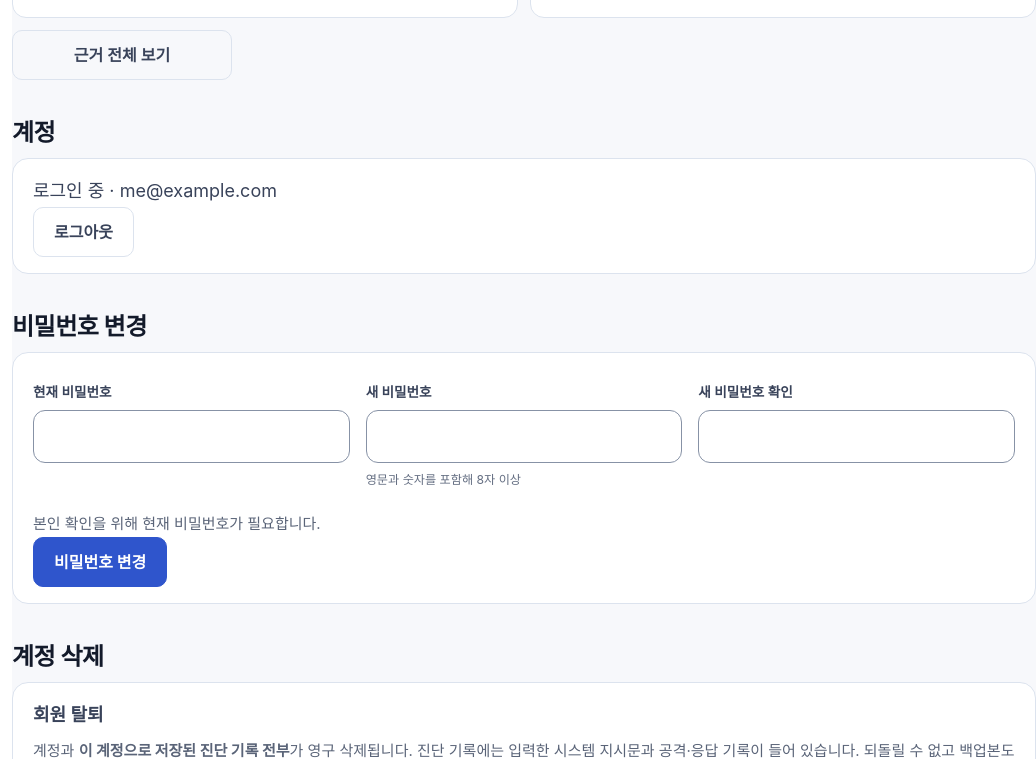
Scenario: 새 비밀번호가 서로 다르면 서버를 부르지 않는다
The image size is (1036, 759).
(page scrolled)
Step 1. Type "abcd1234" into the password field labelled "현재 비밀번호" → (191,437), box [33,410,350,463]
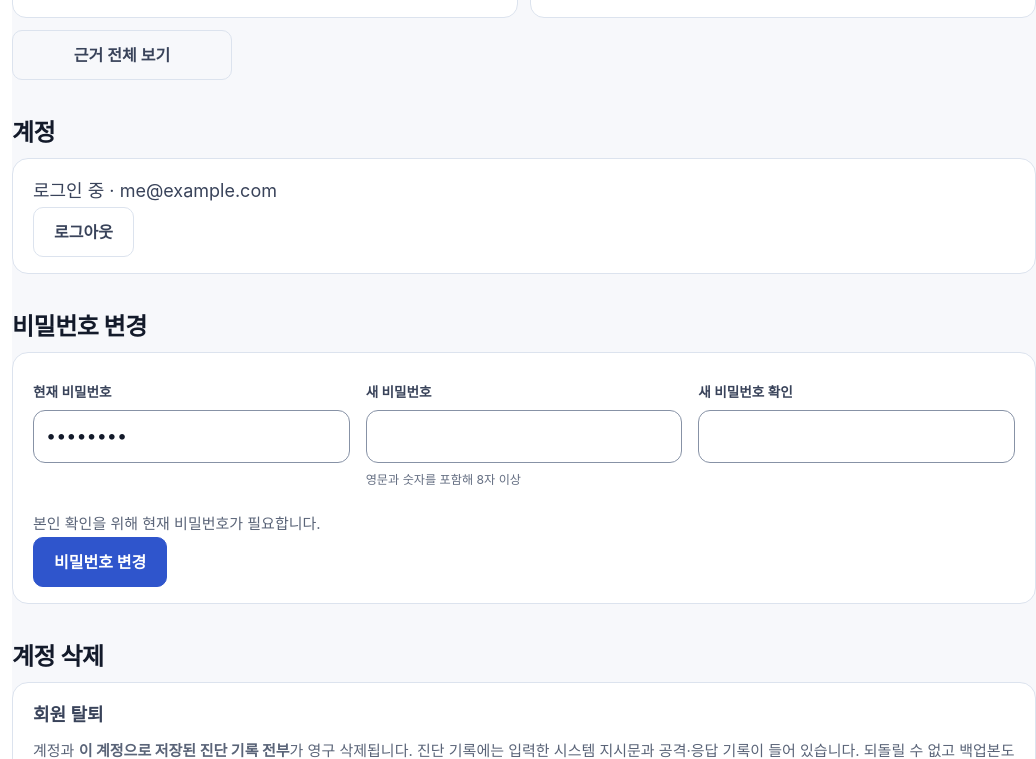
Step 2. Type "qwer5678" into the password field labelled "새 비밀번호" → (524,437), box [366,410,682,463]
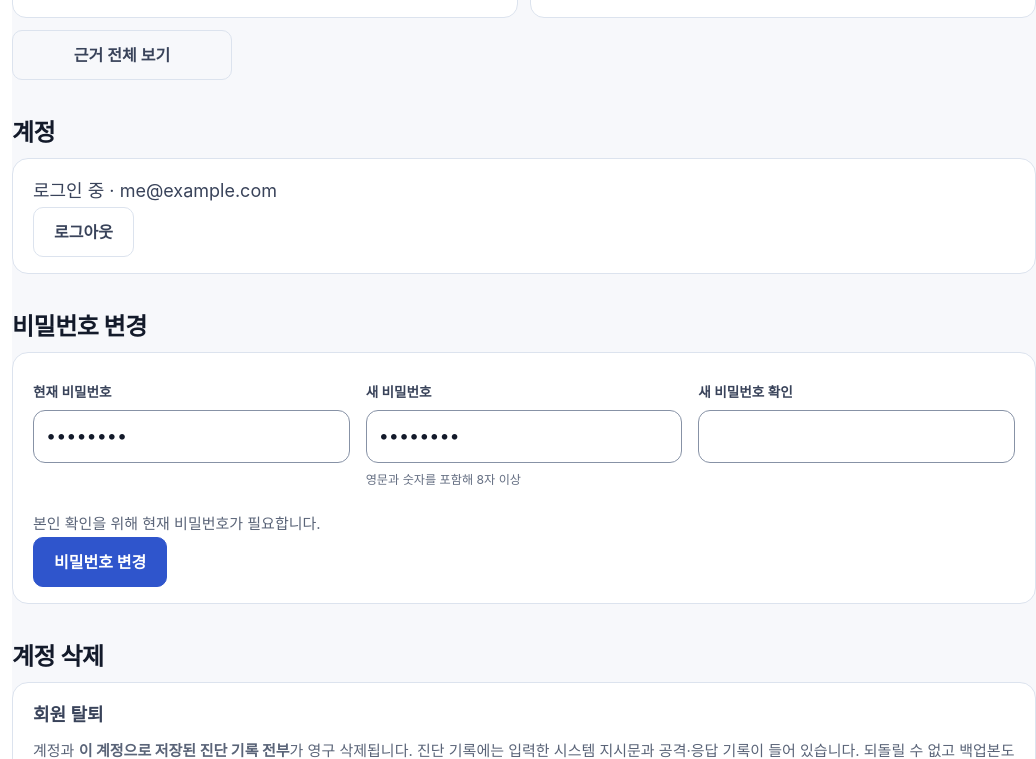
Step 3. Type "qwer0000" into the password field labelled "새 비밀번호 확인" → (857,437), box [698,410,1015,463]
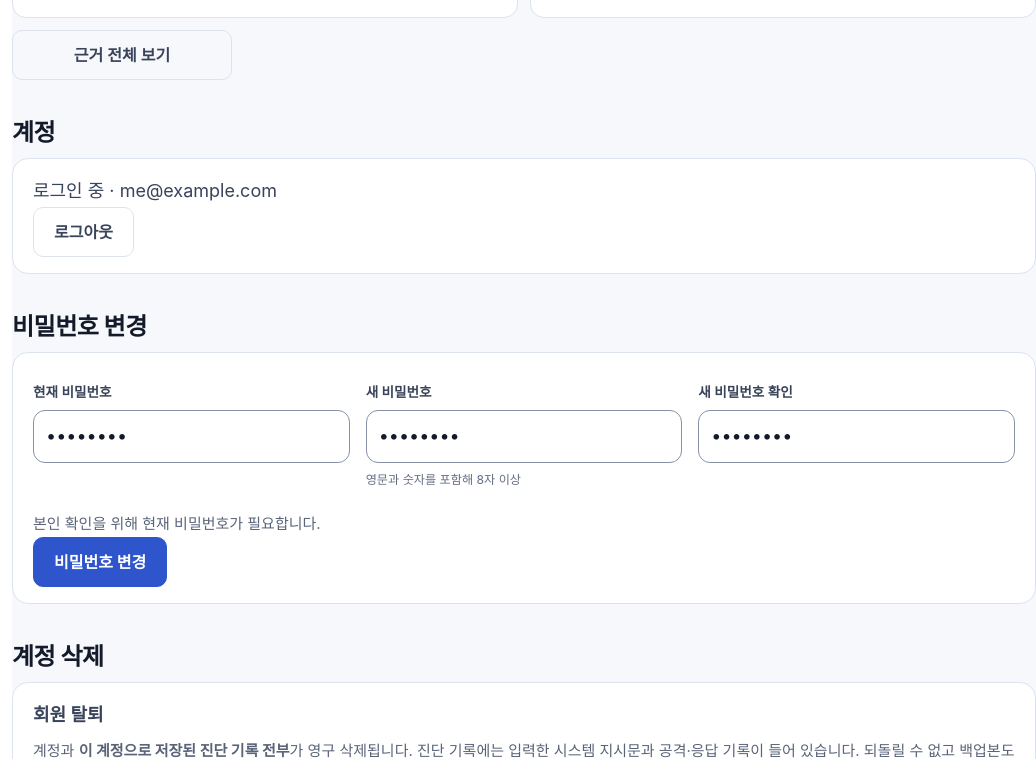
Step 4. Click the button "비밀번호 변경" → (100,562), box [33,537,167,587]
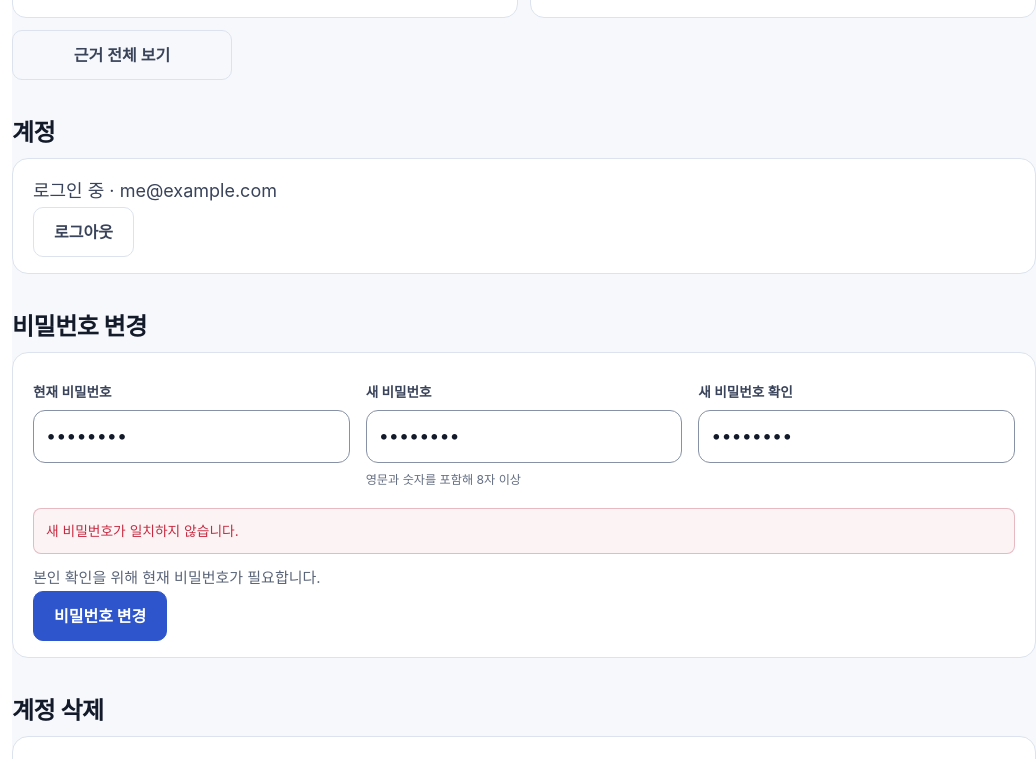
Expected: the text "새 비밀번호가 일치하지 않습니다." is shown, [33,508,1015,554]
